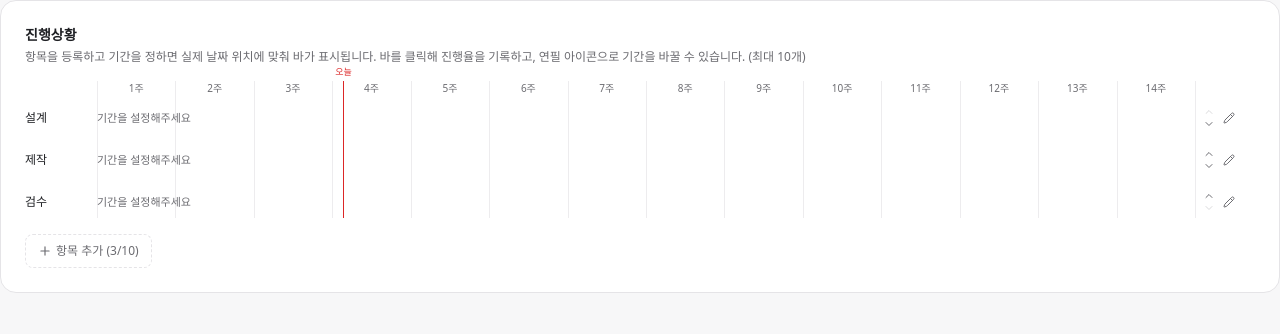
Test case: 진행상황 항목 순서 바꾸기 › 저장에 실패하면 서버 순서로 되돌리고 오류를 보여 준다
Check: the text "설계" is shown, box [25, 109, 47, 126]
Click the button named "검수 위로 이동". click: (1209, 196)
box: [1203, 190, 1215, 202]
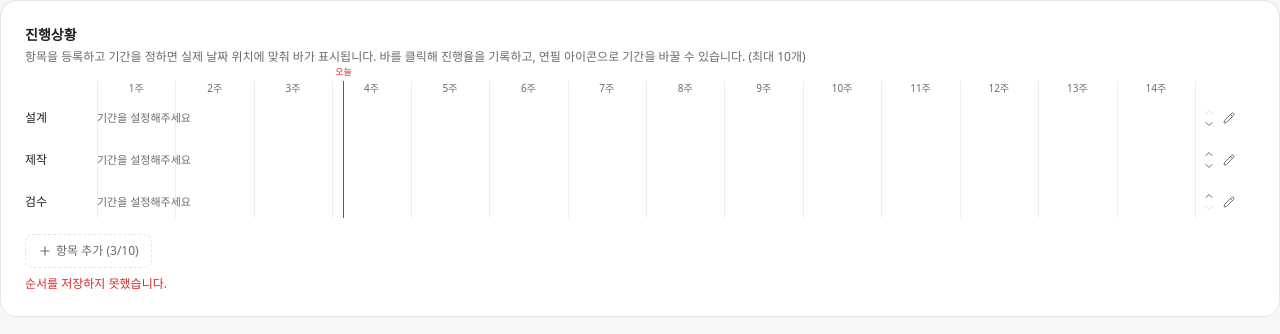
Check: the text "순서를 저장하지 못했습니다." is shown, box [25, 275, 167, 292]
